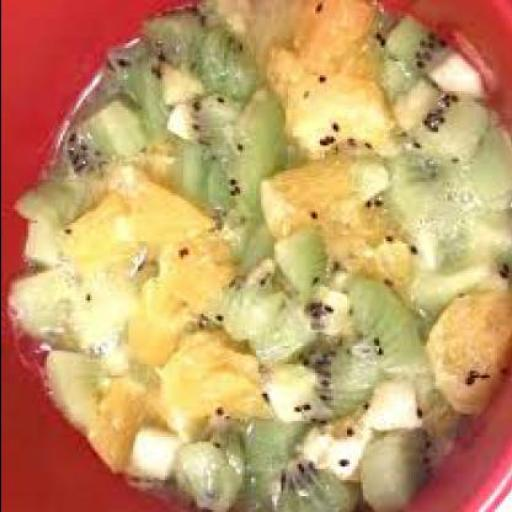biodegradable: (392, 111, 510, 273), (152, 80, 280, 228), (55, 166, 200, 260), (125, 232, 226, 364), (223, 418, 355, 510), (145, 328, 271, 418), (255, 150, 383, 236), (203, 88, 284, 216), (423, 291, 507, 412), (139, 7, 247, 98), (194, 0, 296, 96), (401, 237, 510, 323), (283, 68, 387, 157), (298, 239, 394, 335), (216, 263, 305, 362), (257, 35, 378, 107), (344, 273, 423, 378), (55, 91, 141, 177), (66, 260, 130, 370), (354, 423, 434, 510), (82, 371, 148, 476), (287, 0, 380, 73), (107, 43, 169, 145), (399, 89, 480, 166), (34, 346, 105, 429), (11, 176, 75, 266), (296, 348, 377, 419), (172, 432, 242, 510), (4, 264, 68, 348), (294, 402, 366, 474), (244, 353, 321, 419), (412, 375, 460, 469), (424, 48, 498, 107), (120, 421, 180, 490), (274, 462, 360, 510), (378, 18, 442, 82), (210, 216, 268, 278), (380, 52, 428, 125), (358, 380, 416, 426), (276, 237, 325, 291)
